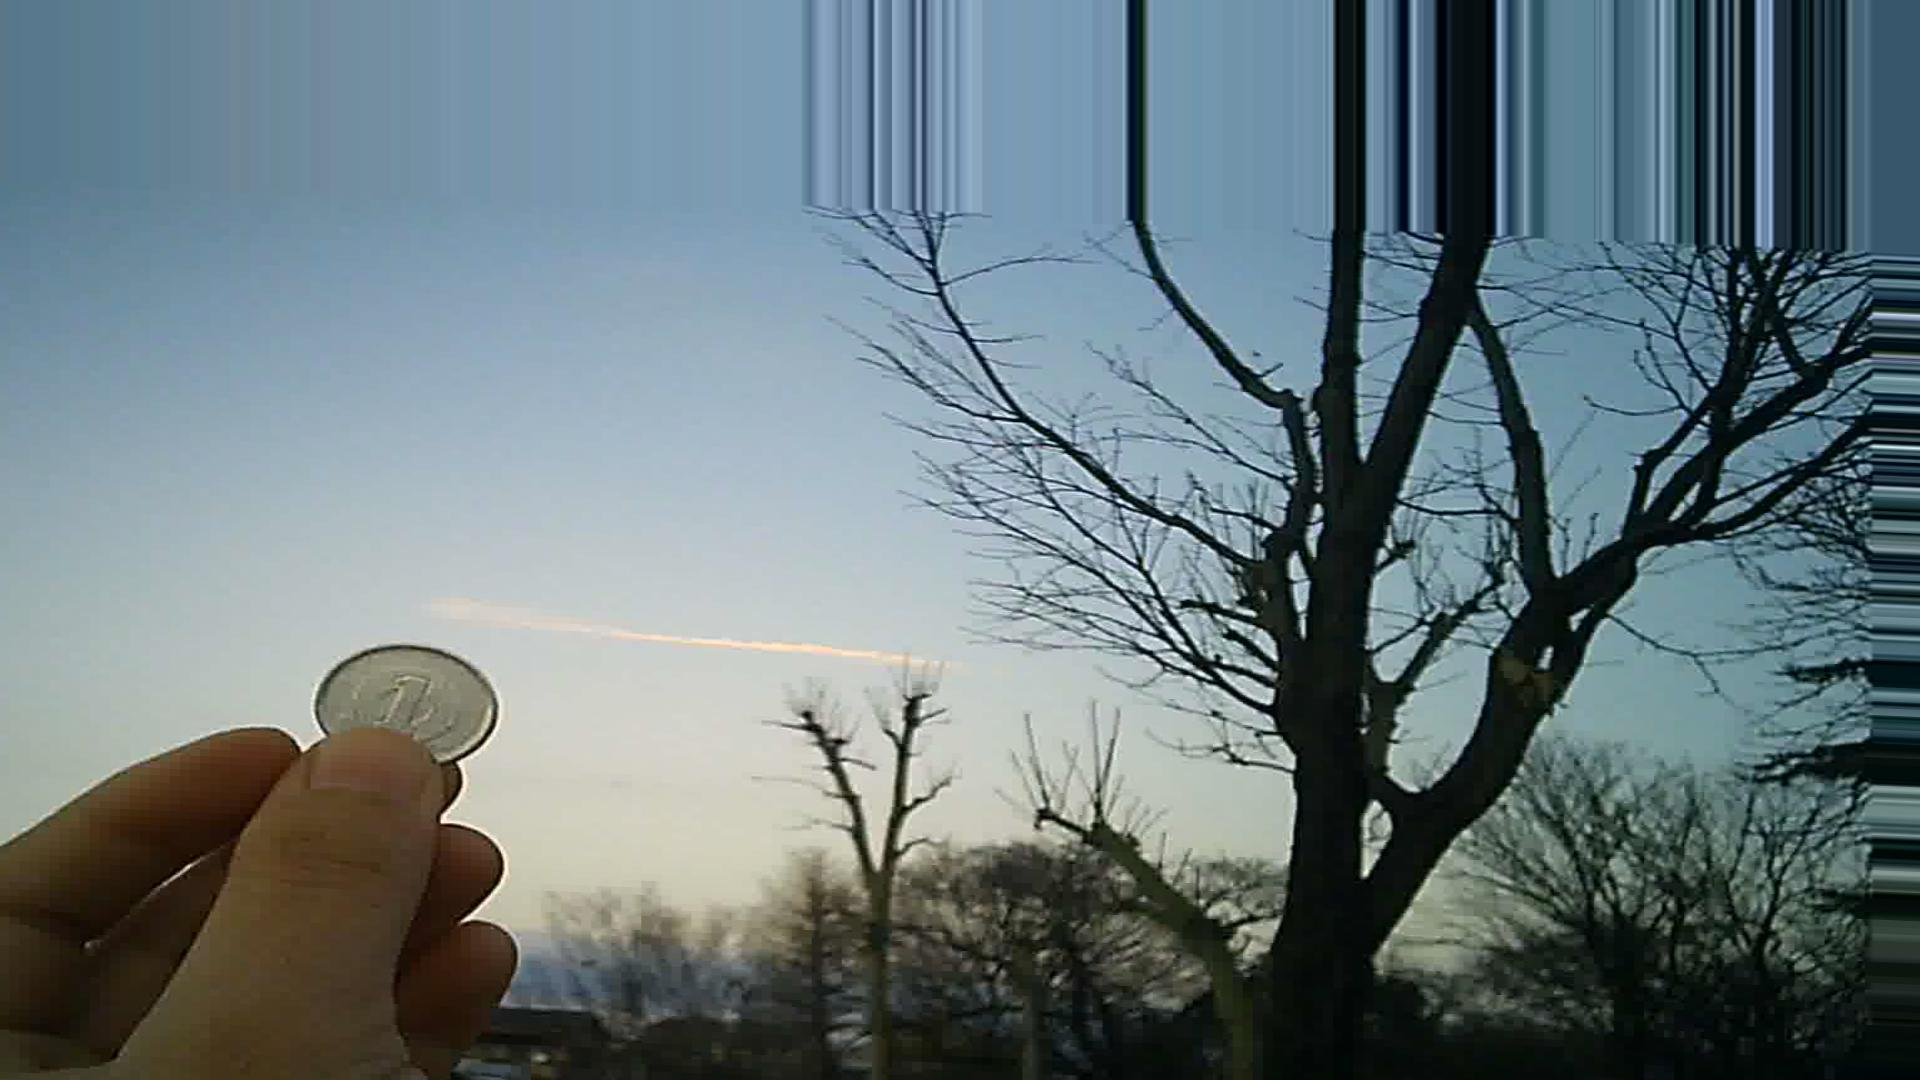1 Yen: (311, 644, 508, 775)
